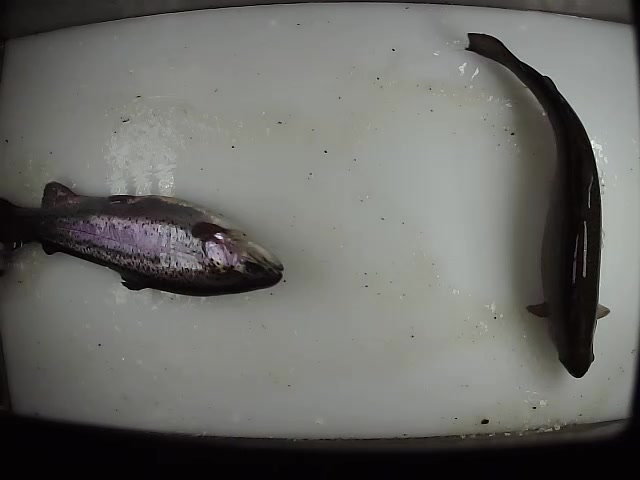fish: (461, 28, 613, 383), (1, 180, 286, 301)
